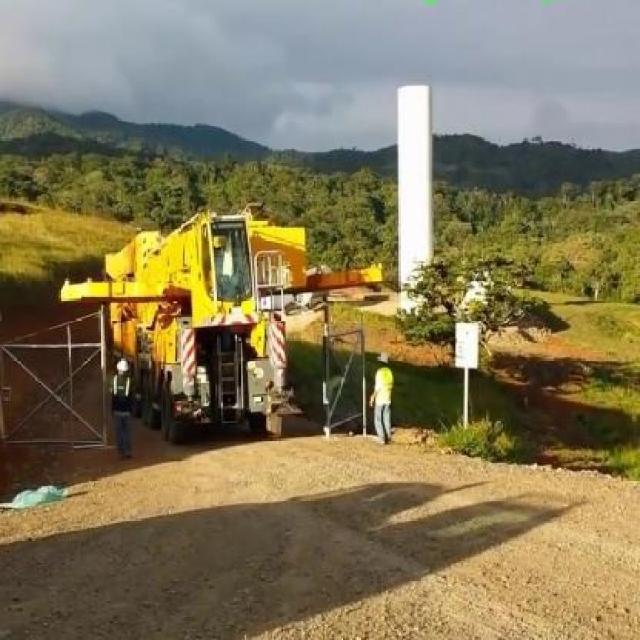Mobile Crane: (58, 209, 382, 434)
